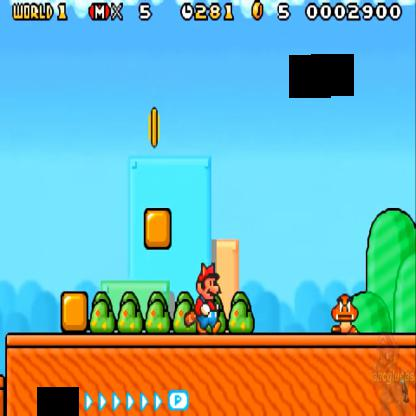Goomba: (331, 292, 360, 334)
Mario: (184, 261, 220, 333)
moneda: (146, 108, 164, 150), (250, 2, 264, 22)
